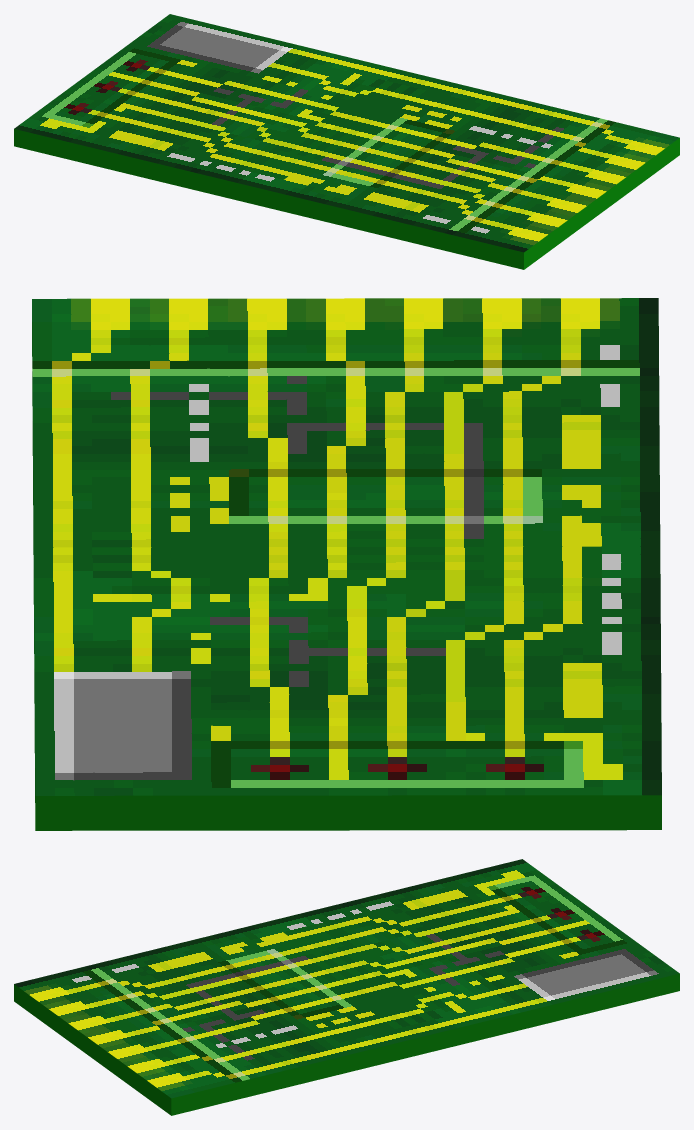
The model's file is primary_091.glb.
3 views of the same model, one above another, from view 1: azimuth 30°, elevation 25°; view 2: azimuth 150°, elevation 25°; view 3: azimuth 270°, elevation 25° (orthographic). The views are drawn at different scales.
Parts seen in each view (by area): view 1: Object; view 2: Object; view 3: Object.
Boxes of the visible parts, x1,y1,x2,y2 form: Object: [14, 14, 679, 269]; Object: [32, 298, 661, 830]; Object: [14, 859, 679, 1115].
Size of the model in its own units: 0.2658 by 0.00905 by 0.3125.
6 materials, 6 textured.
